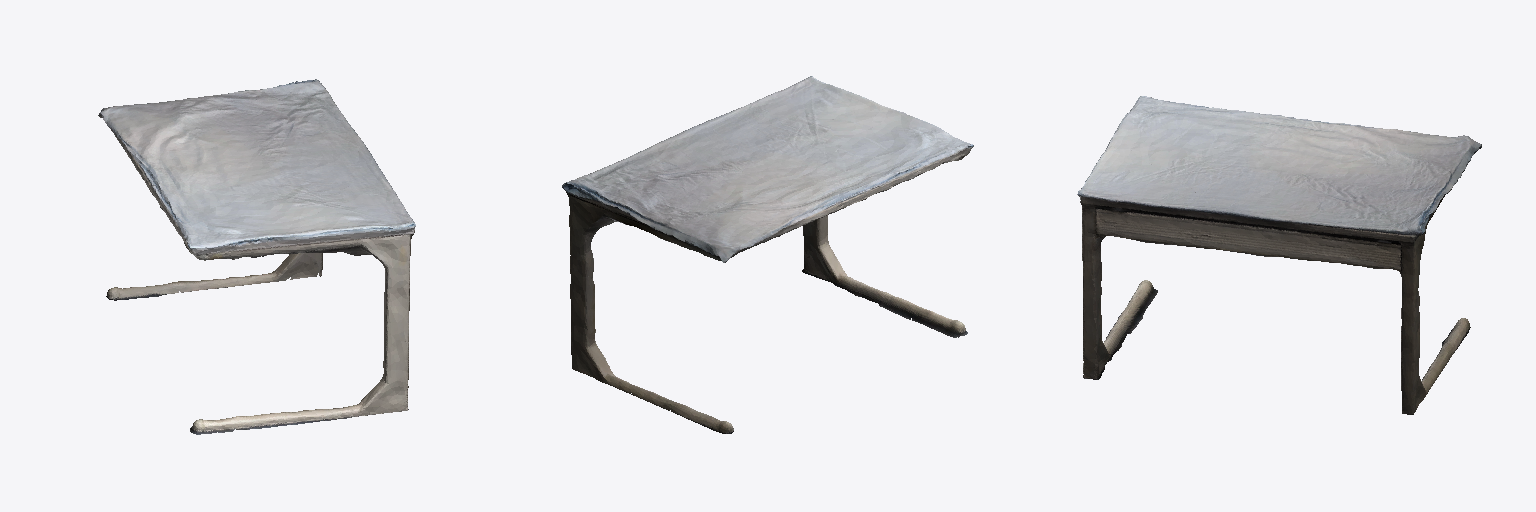
The picture shows the model from 3 angles: view 1: azimuth 30°, elevation 25°; view 2: azimuth 150°, elevation 25°; view 3: azimuth 270°, elevation 25°; orthographic projection.
Parts seen in each view (by area): view 1: Object; view 2: Object; view 3: Object.
Boxes of the visible parts, x1=… form: Object: x1=98, y1=79, x2=415, y2=434; Object: x1=562, y1=76, x2=973, y2=433; Object: x1=1077, y1=96, x2=1481, y2=414.
Size of the model in its own units: 0.7307 by 0.4908 by 0.941.
Materials: 1 (1 with a texture image).